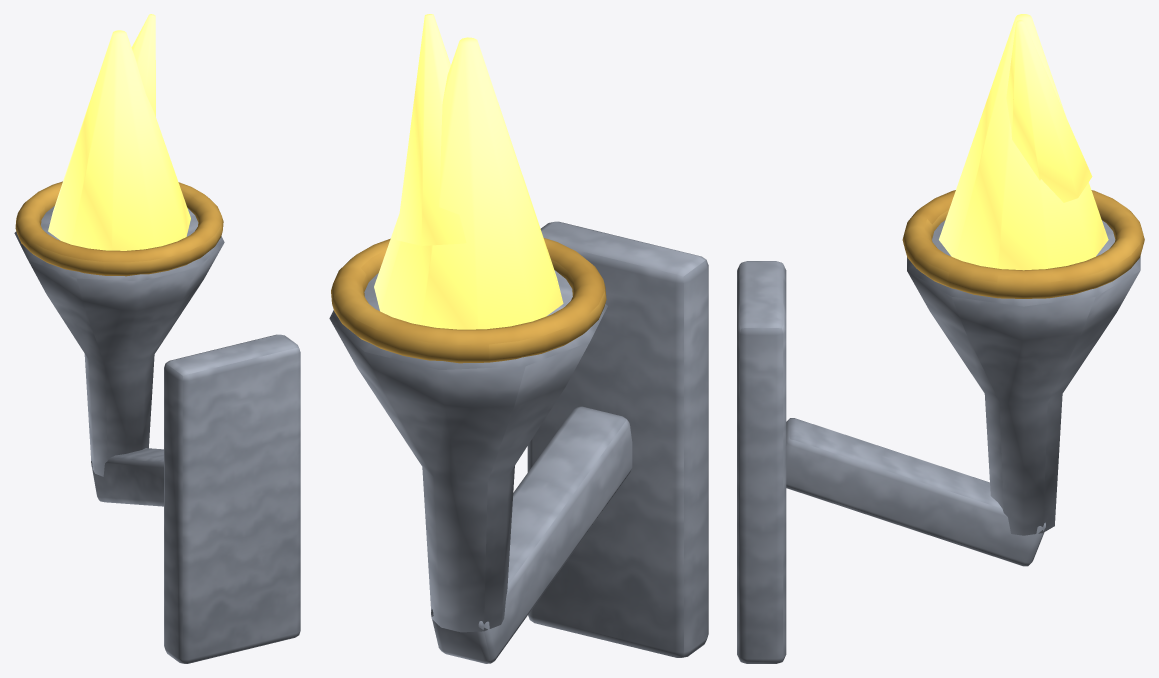
The model's file is torch_sconce.glb.
3 renders of one model, left to right at view 1: azimuth 30°, elevation 25°; view 2: azimuth 150°, elevation 25°; view 3: azimuth 270°, elevation 25°, orthographic. The views are drawn at different scales.
Parts seen in each view (by area): view 1: WallPlate, FlameCore, TorchCup, CageRing, BracketArm, FlameLick; view 2: WallPlate, TorchCup, FlameCore, BracketArm, CageRing, FlameLick; view 3: TorchCup, WallPlate, FlameCore, BracketArm, CageRing, FlameLick.
Part boxes in pixels (x1=…): WallPlate: x1=164, y1=334, x2=300, y2=663; FlameCore: x1=48, y1=30, x2=190, y2=250; TorchCup: x1=14, y1=206, x2=224, y2=476; CageRing: x1=15, y1=181, x2=223, y2=276; BracketArm: x1=91, y1=448, x2=163, y2=506; FlameLick: x1=131, y1=14, x2=155, y2=116; WallPlate: x1=527, y1=221, x2=708, y2=657; TorchCup: x1=329, y1=270, x2=607, y2=632; FlameCore: x1=374, y1=37, x2=563, y2=329; BracketArm: x1=431, y1=406, x2=632, y2=663; CageRing: x1=331, y1=238, x2=606, y2=363; FlameLick: x1=396, y1=14, x2=466, y2=245; TorchCup: x1=907, y1=220, x2=1140, y2=535; WallPlate: x1=737, y1=261, x2=786, y2=663; FlameCore: x1=939, y1=14, x2=1108, y2=270; BracketArm: x1=786, y1=418, x2=1045, y2=566; CageRing: x1=902, y1=190, x2=1144, y2=298; FlameLick: x1=1006, y1=20, x2=1092, y2=202.
Bounding box in the file's own units: 0.3 × 0.8483 × 0.498.
Materials: 3 (2 with a texture image).
